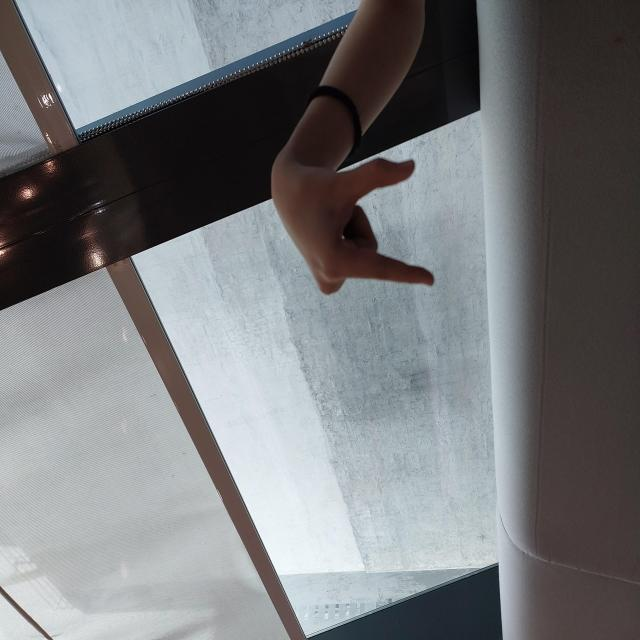Q: (344, 269, 484, 430)
